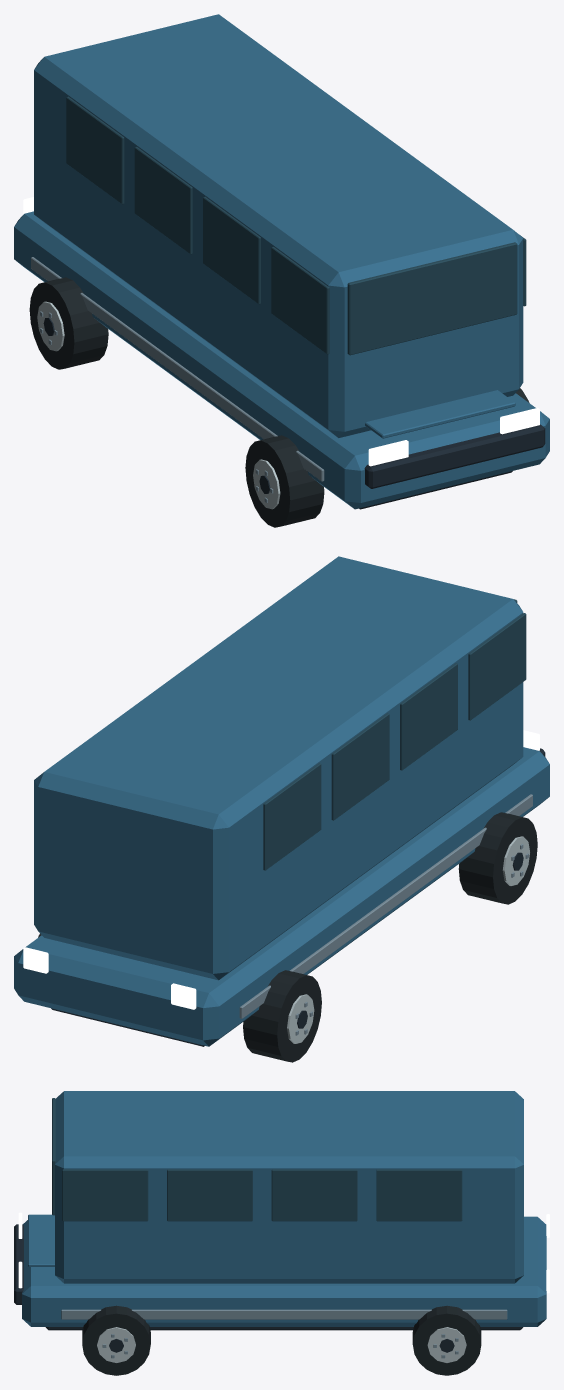
Rendered from road-van.lod0.glb.
3 views of the same model, one above another, from view 1: azimuth 30°, elevation 25°; view 2: azimuth 150°, elevation 25°; view 3: azimuth 270°, elevation 25° (orthographic). The views are drawn at different scales.
Visible parts, largest first — view 1: road-van__body, road-van__wheel_steer_1_l, road-van__wheel_steer_0_l; view 2: road-van__body, road-van__wheel_steer_0_l, road-van__wheel_steer_1_l; view 3: road-van__body, road-van__wheel_steer_1_r, road-van__wheel_steer_0_r.
Boxes of the visible parts, x1=… form: road-van__body: x1=14, y1=14, x2=549, y2=509; road-van__wheel_steer_1_l: x1=29, y1=277, x2=108, y2=369; road-van__wheel_steer_0_l: x1=245, y1=435, x2=324, y2=527; road-van__body: x1=14, y1=556, x2=549, y2=1046; road-van__wheel_steer_0_l: x1=458, y1=812, x2=537, y2=904; road-van__wheel_steer_1_l: x1=243, y1=970, x2=321, y2=1062; road-van__body: x1=14, y1=1091, x2=549, y2=1330; road-van__wheel_steer_1_r: x1=412, y1=1305, x2=481, y2=1375; road-van__wheel_steer_0_r: x1=82, y1=1305, x2=150, y2=1375.
Size of the model in its own units: 2.25 by 2.25 by 5.31.
